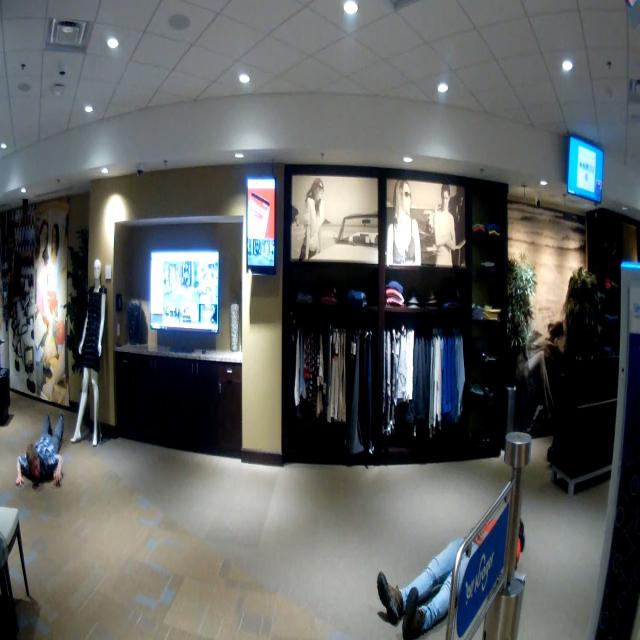fall: (372, 480, 525, 636), (13, 387, 78, 510)
